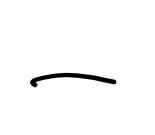minus: (30, 73, 116, 87)
